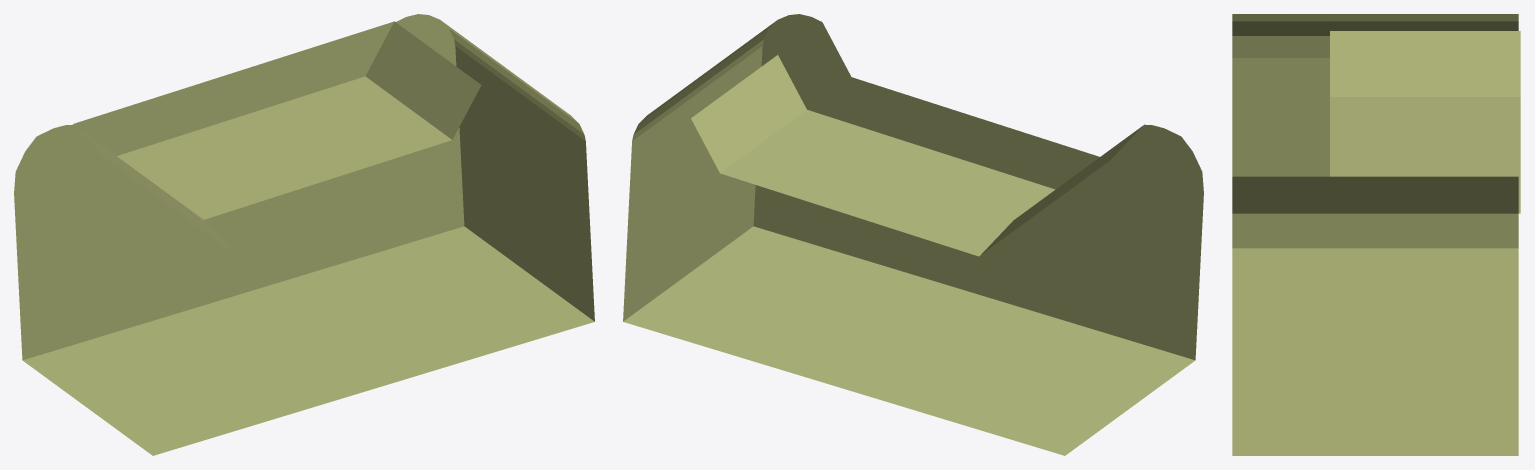
3 renders of one model, left to right at view 1: azimuth 30°, elevation 25°; view 2: azimuth 150°, elevation 25°; view 3: azimuth 270°, elevation 25°, orthographic. The views are drawn at different scales.
Parts seen in each view (by area): view 1: 0_1_2_0_3_1_0_0_1_3; view 2: 0_1_2_0_3_1_0_0_1_3; view 3: 0_1_2_0_3_1_0_0_1_3.
Part boxes in pixels (bbox=[...]): 0_1_2_0_3_1_0_0_1_3: bbox=[14, 14, 594, 455]; 0_1_2_0_3_1_0_0_1_3: bbox=[623, 14, 1203, 455]; 0_1_2_0_3_1_0_0_1_3: bbox=[1232, 14, 1520, 455].
Size of the model in its own units: 17.93 by 9.5 by 9.07.
